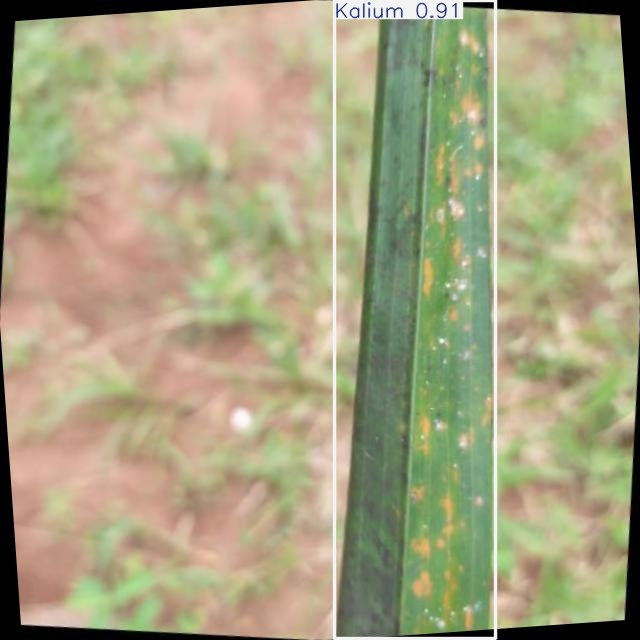Kalium: (335, 1, 495, 639)
